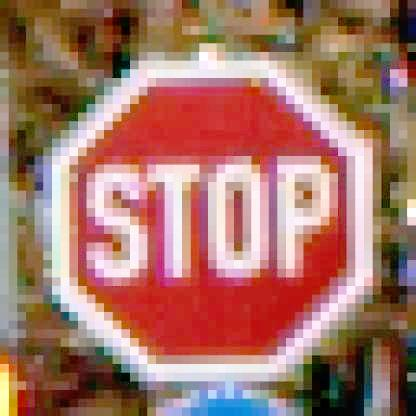Stop Sign: (46, 60, 376, 383)
